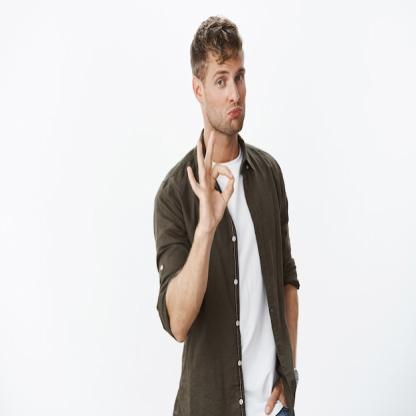ok: (186, 131, 237, 228)
